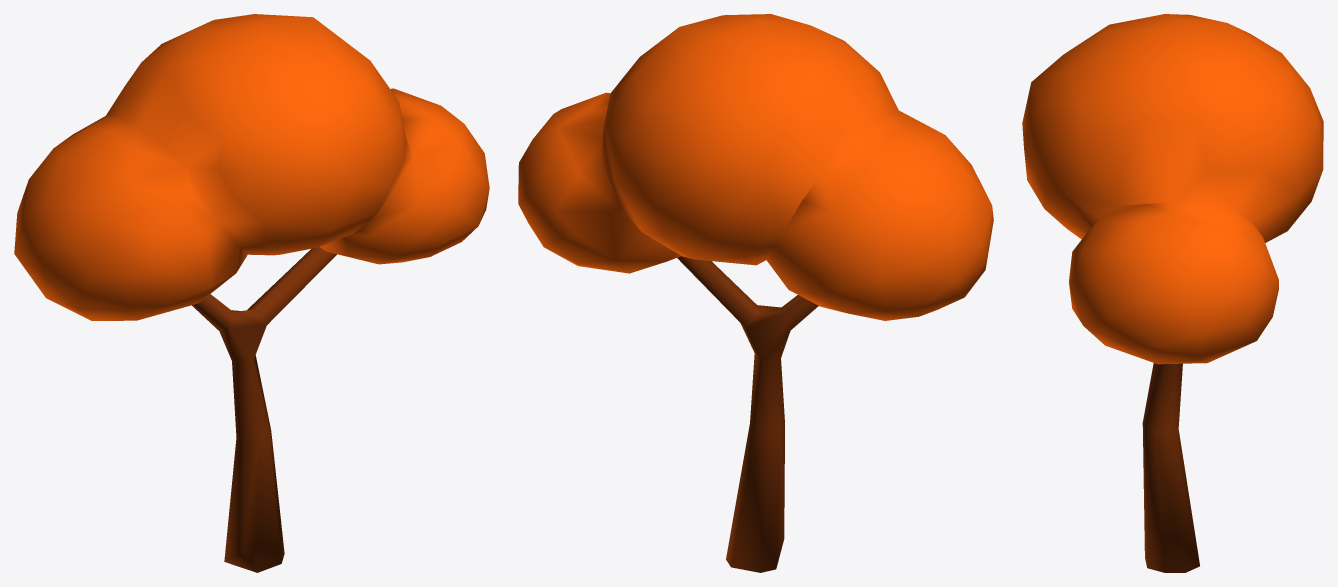
File: Tree005.fbx
3 renders of one model, left to right at view 1: azimuth 30°, elevation 25°; view 2: azimuth 150°, elevation 25°; view 3: azimuth 270°, elevation 25°, orthographic.
Visible parts, largest first — view 1: tree.001; view 2: tree.001; view 3: tree.001.
Boxes of the visible parts, bbox=[...] form: tree.001: bbox=[14, 14, 489, 572]; tree.001: bbox=[518, 14, 993, 572]; tree.001: bbox=[1022, 14, 1323, 572].
Bounding box in the file's own units: 364 × 413 × 211.
Materials: 1 (1 with a texture image).
